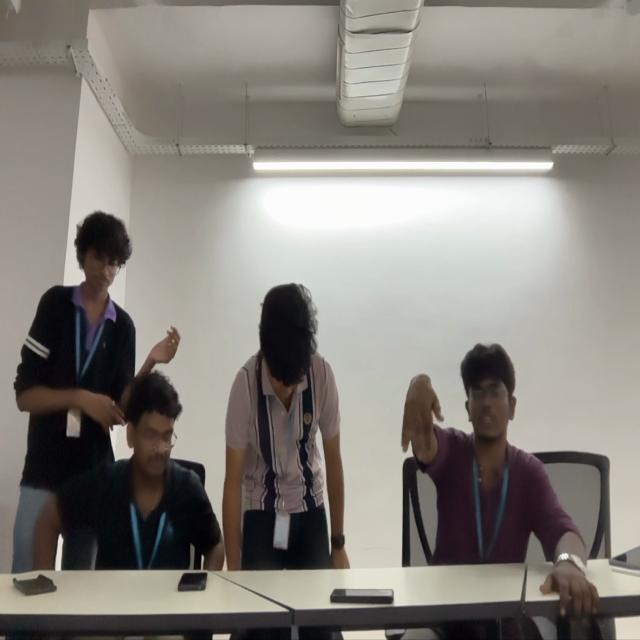Isolated: (401, 341, 595, 563)
socializing: (17, 213, 349, 562)
